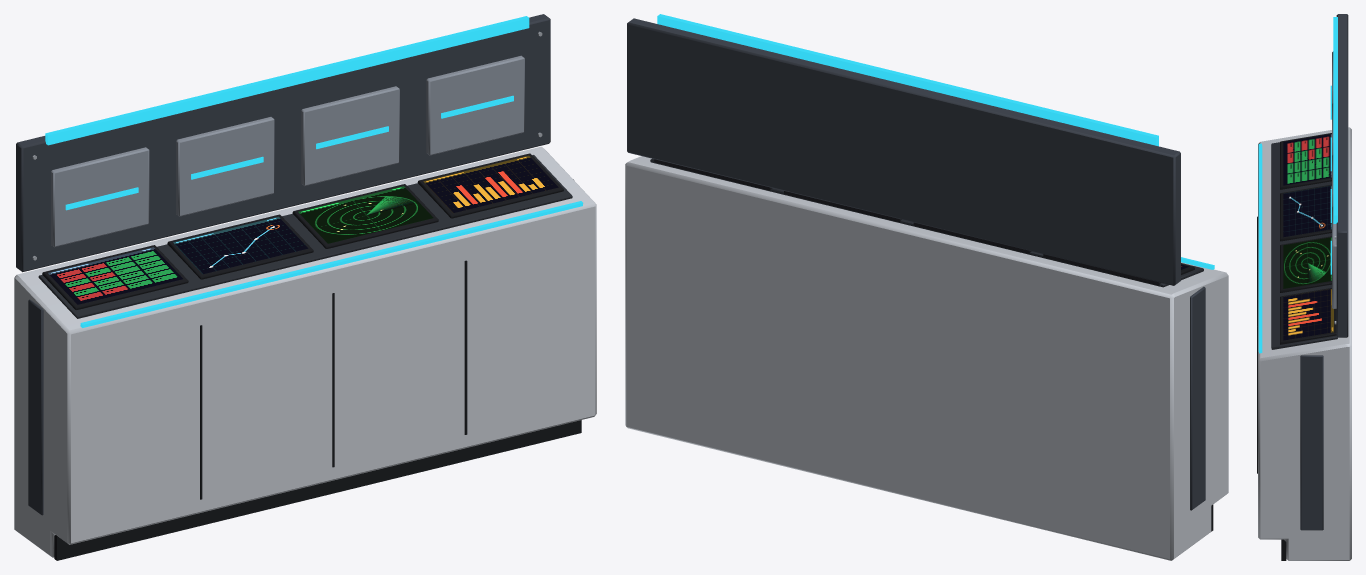
The model's file is console_wall_flush.glb.
The picture shows the model from 3 angles, left to right: view 1: azimuth 30°, elevation 25°; view 2: azimuth 150°, elevation 25°; view 3: azimuth 270°, elevation 25°; orthographic projection. The views are drawn at different scales.
Parts seen in each view (by area): view 1: console_wall_flush; view 2: console_wall_flush; view 3: console_wall_flush.
Boxes of the visible parts, x1,y1,x2,y2 form: console_wall_flush: (14, 14, 596, 560); console_wall_flush: (625, 14, 1228, 560); console_wall_flush: (1257, 14, 1351, 560).
Size of the model in its own units: 2.22 by 1.58 by 0.404.
Materials: 11 (4 with a texture image).
